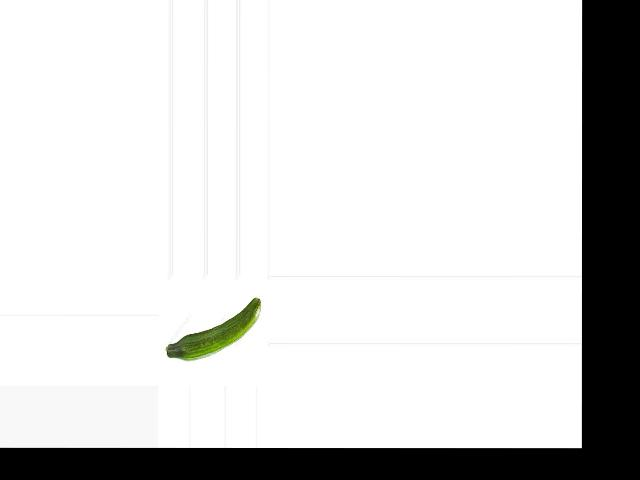cucumber: (164, 296, 260, 360)
